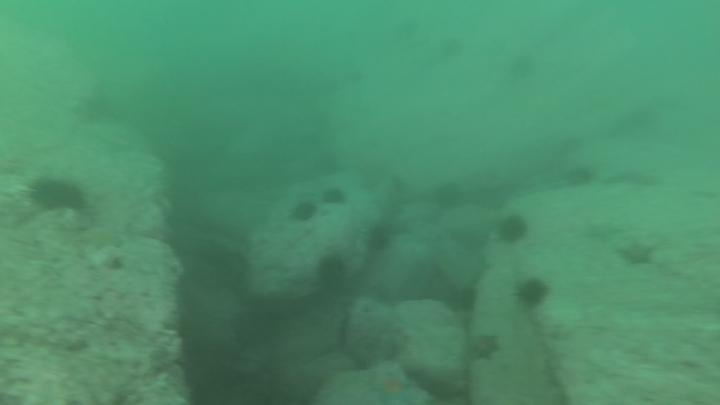echinus: (26, 174, 88, 216), (314, 252, 351, 295), (512, 275, 551, 311), (494, 212, 530, 247), (444, 283, 481, 317), (363, 221, 396, 256), (431, 180, 466, 213), (506, 50, 539, 82), (562, 163, 597, 191), (437, 34, 467, 62), (288, 198, 319, 225), (319, 185, 349, 209)
starfish: (367, 366, 424, 405), (614, 237, 659, 270), (78, 224, 126, 253), (464, 331, 503, 365), (581, 217, 625, 245)
